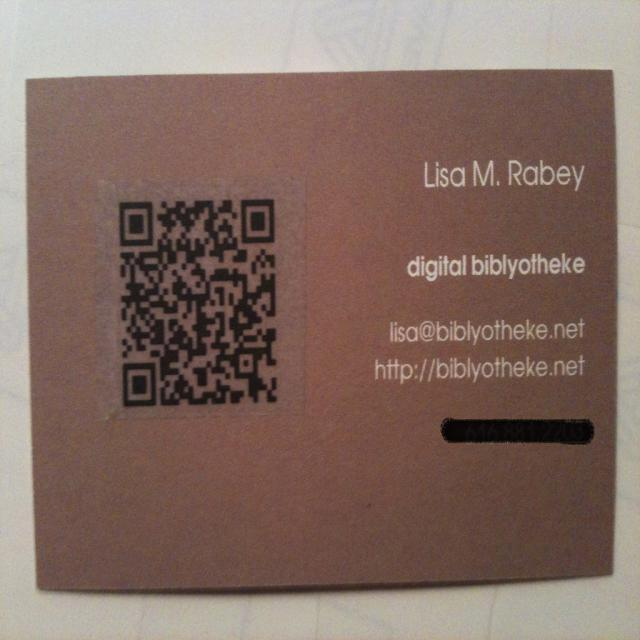qrcode: (120, 200, 278, 407)
